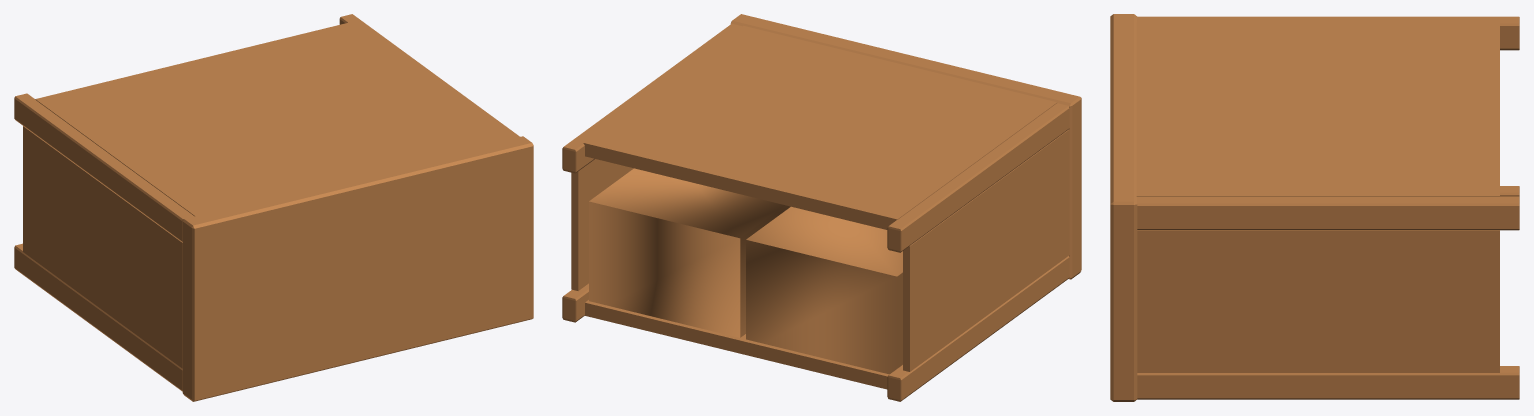
File: DressermeshDresser_210_2_0.obj
3 views of the same model, side by side, from view 1: azimuth 30°, elevation 25°; view 2: azimuth 150°, elevation 25°; view 3: azimuth 270°, elevation 25° (orthographic). The views are drawn at different scales.
Visible parts, largest first — view 1: Dresser_210_2; view 2: Dresser_210_2; view 3: Dresser_210_2.
Boxes of the visible parts, x1=… form: Dresser_210_2: x1=14, y1=14, x2=533, y2=401; Dresser_210_2: x1=562, y1=14, x2=1081, y2=401; Dresser_210_2: x1=1110, y1=14, x2=1519, y2=401.
Size of the model in its own units: 0.9235 by 0.4559 by 0.8453.
